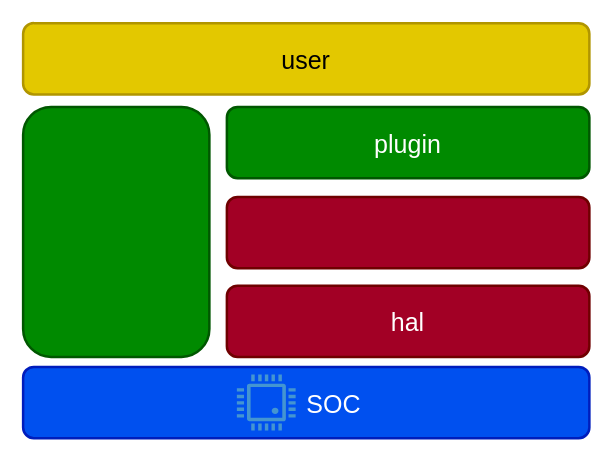
Some shapes in this 611 by 460 pixel diagram are drawn without their labels. Here are the shapes that lost their labels. From the top down, the centre of each, then its label:
the point at 115,231: driver
the point at 407,232: kernel
